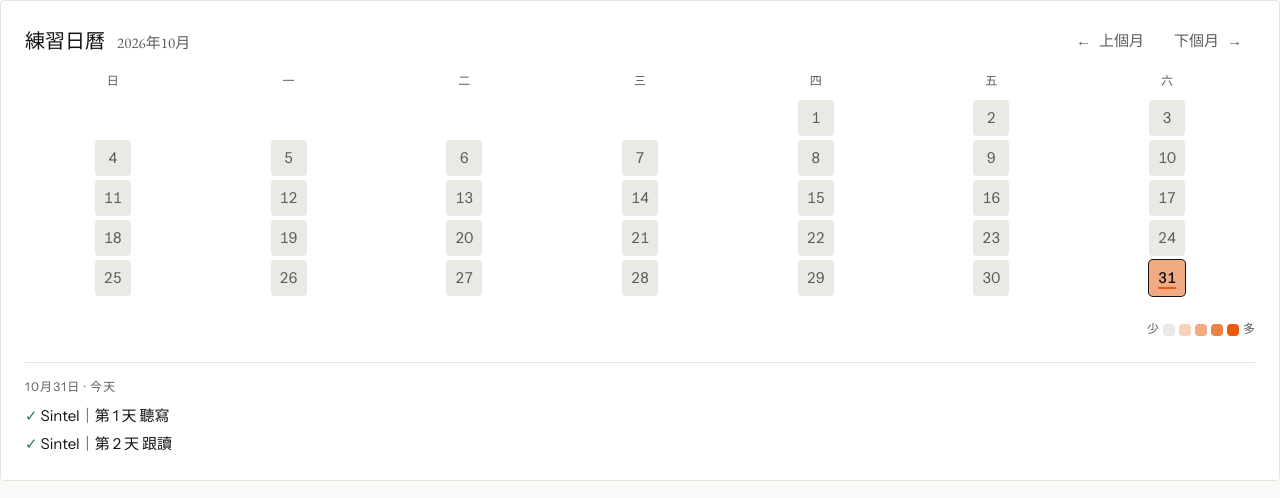
PracticeCalendar › shows a day's tasks in a tooltip when the mouse is over it
Hover over the button named "（今天）" at [1167, 278], box [1149,260,1185,296]
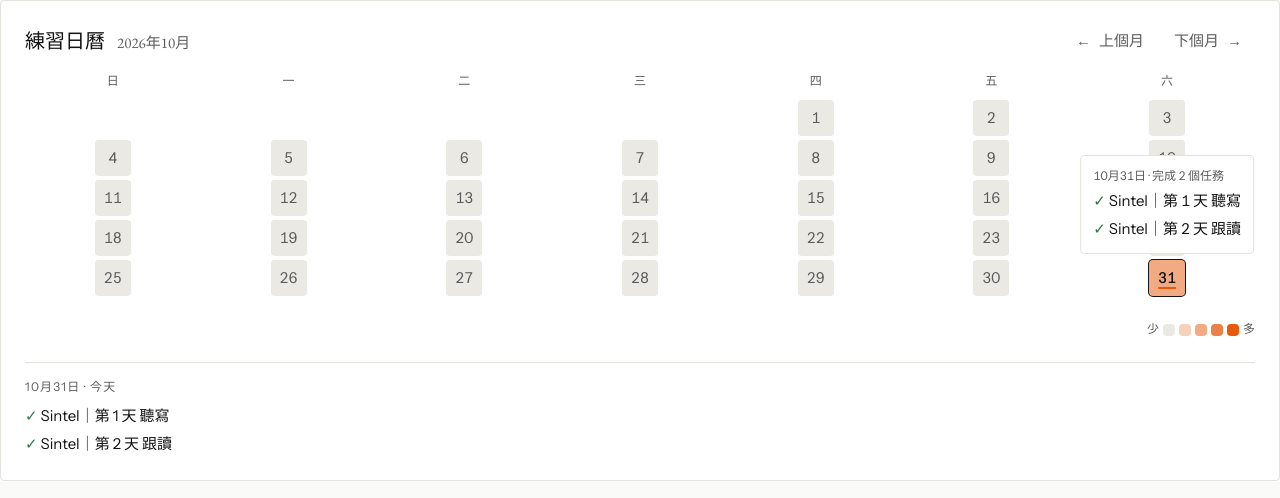
Expected: the tooltip shows "完成 2 個任務", [1152,168,1224,183]
Expected: the tooltip shows "Sintel｜第 2 天 跟讀", [1080,155,1254,254]
Move the pointer off the button named "（今天）", box [1149,260,1185,296]
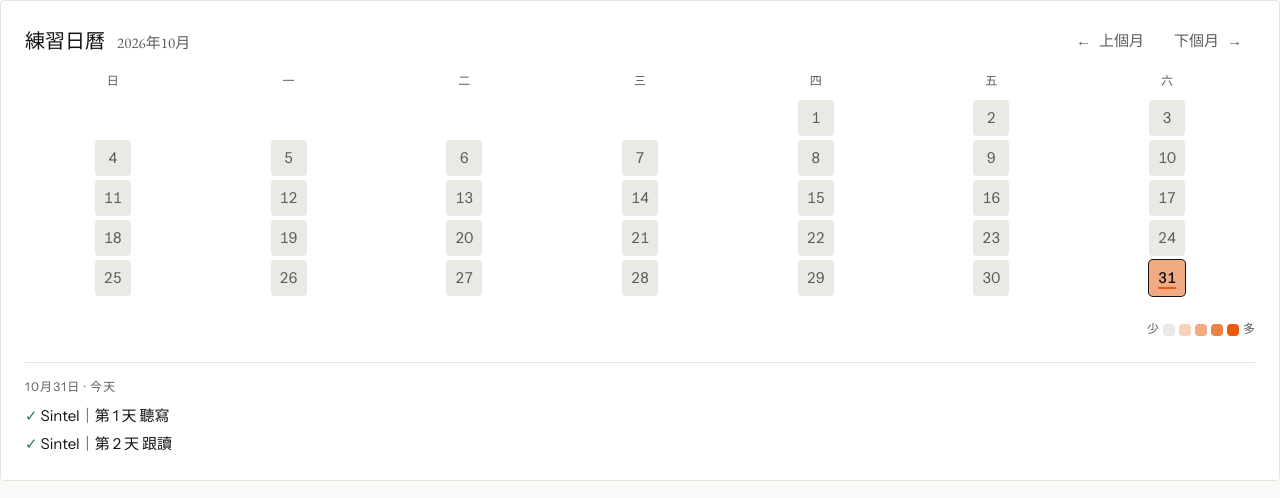
Expected: the tooltip "10月31日 · 完成 2 個任務 ✓Sintel｜第 1 天 聽寫 ✓Sintel｜第 2 天 跟讀" is gone
